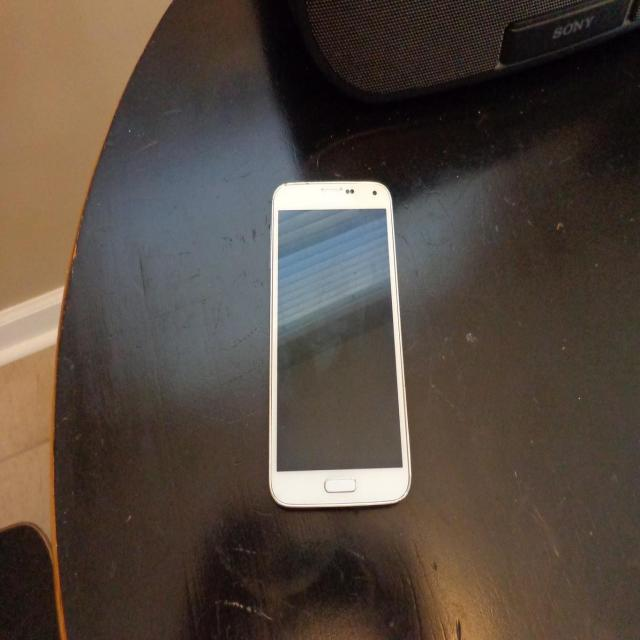Phone: (266, 176, 412, 513)
